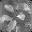people: (4, 4, 15, 13), (8, 21, 17, 31), (17, 13, 26, 21), (0, 14, 8, 22), (5, 15, 14, 22)
